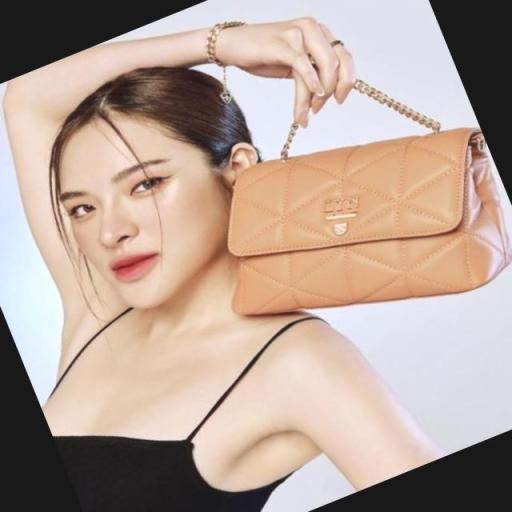bag: (225, 116, 512, 319)
